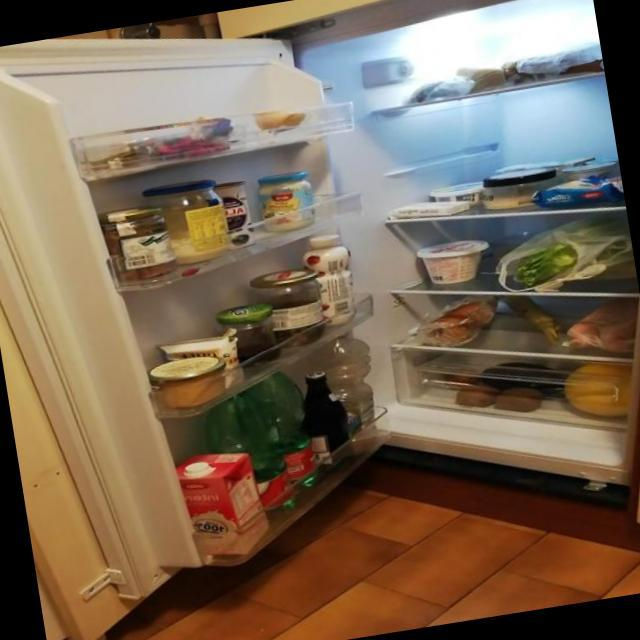Limón: (251, 106, 311, 142)
Mantequilla: (386, 192, 473, 227)
Manzana: (418, 299, 497, 348)
Queso: (529, 172, 625, 214), (470, 183, 557, 214)
Yogur: (494, 152, 590, 183), (562, 158, 616, 184), (580, 154, 622, 186)
milk: (167, 445, 270, 567)
